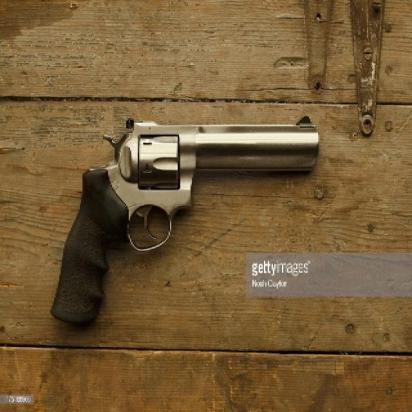Gun: (43, 114, 320, 326)
